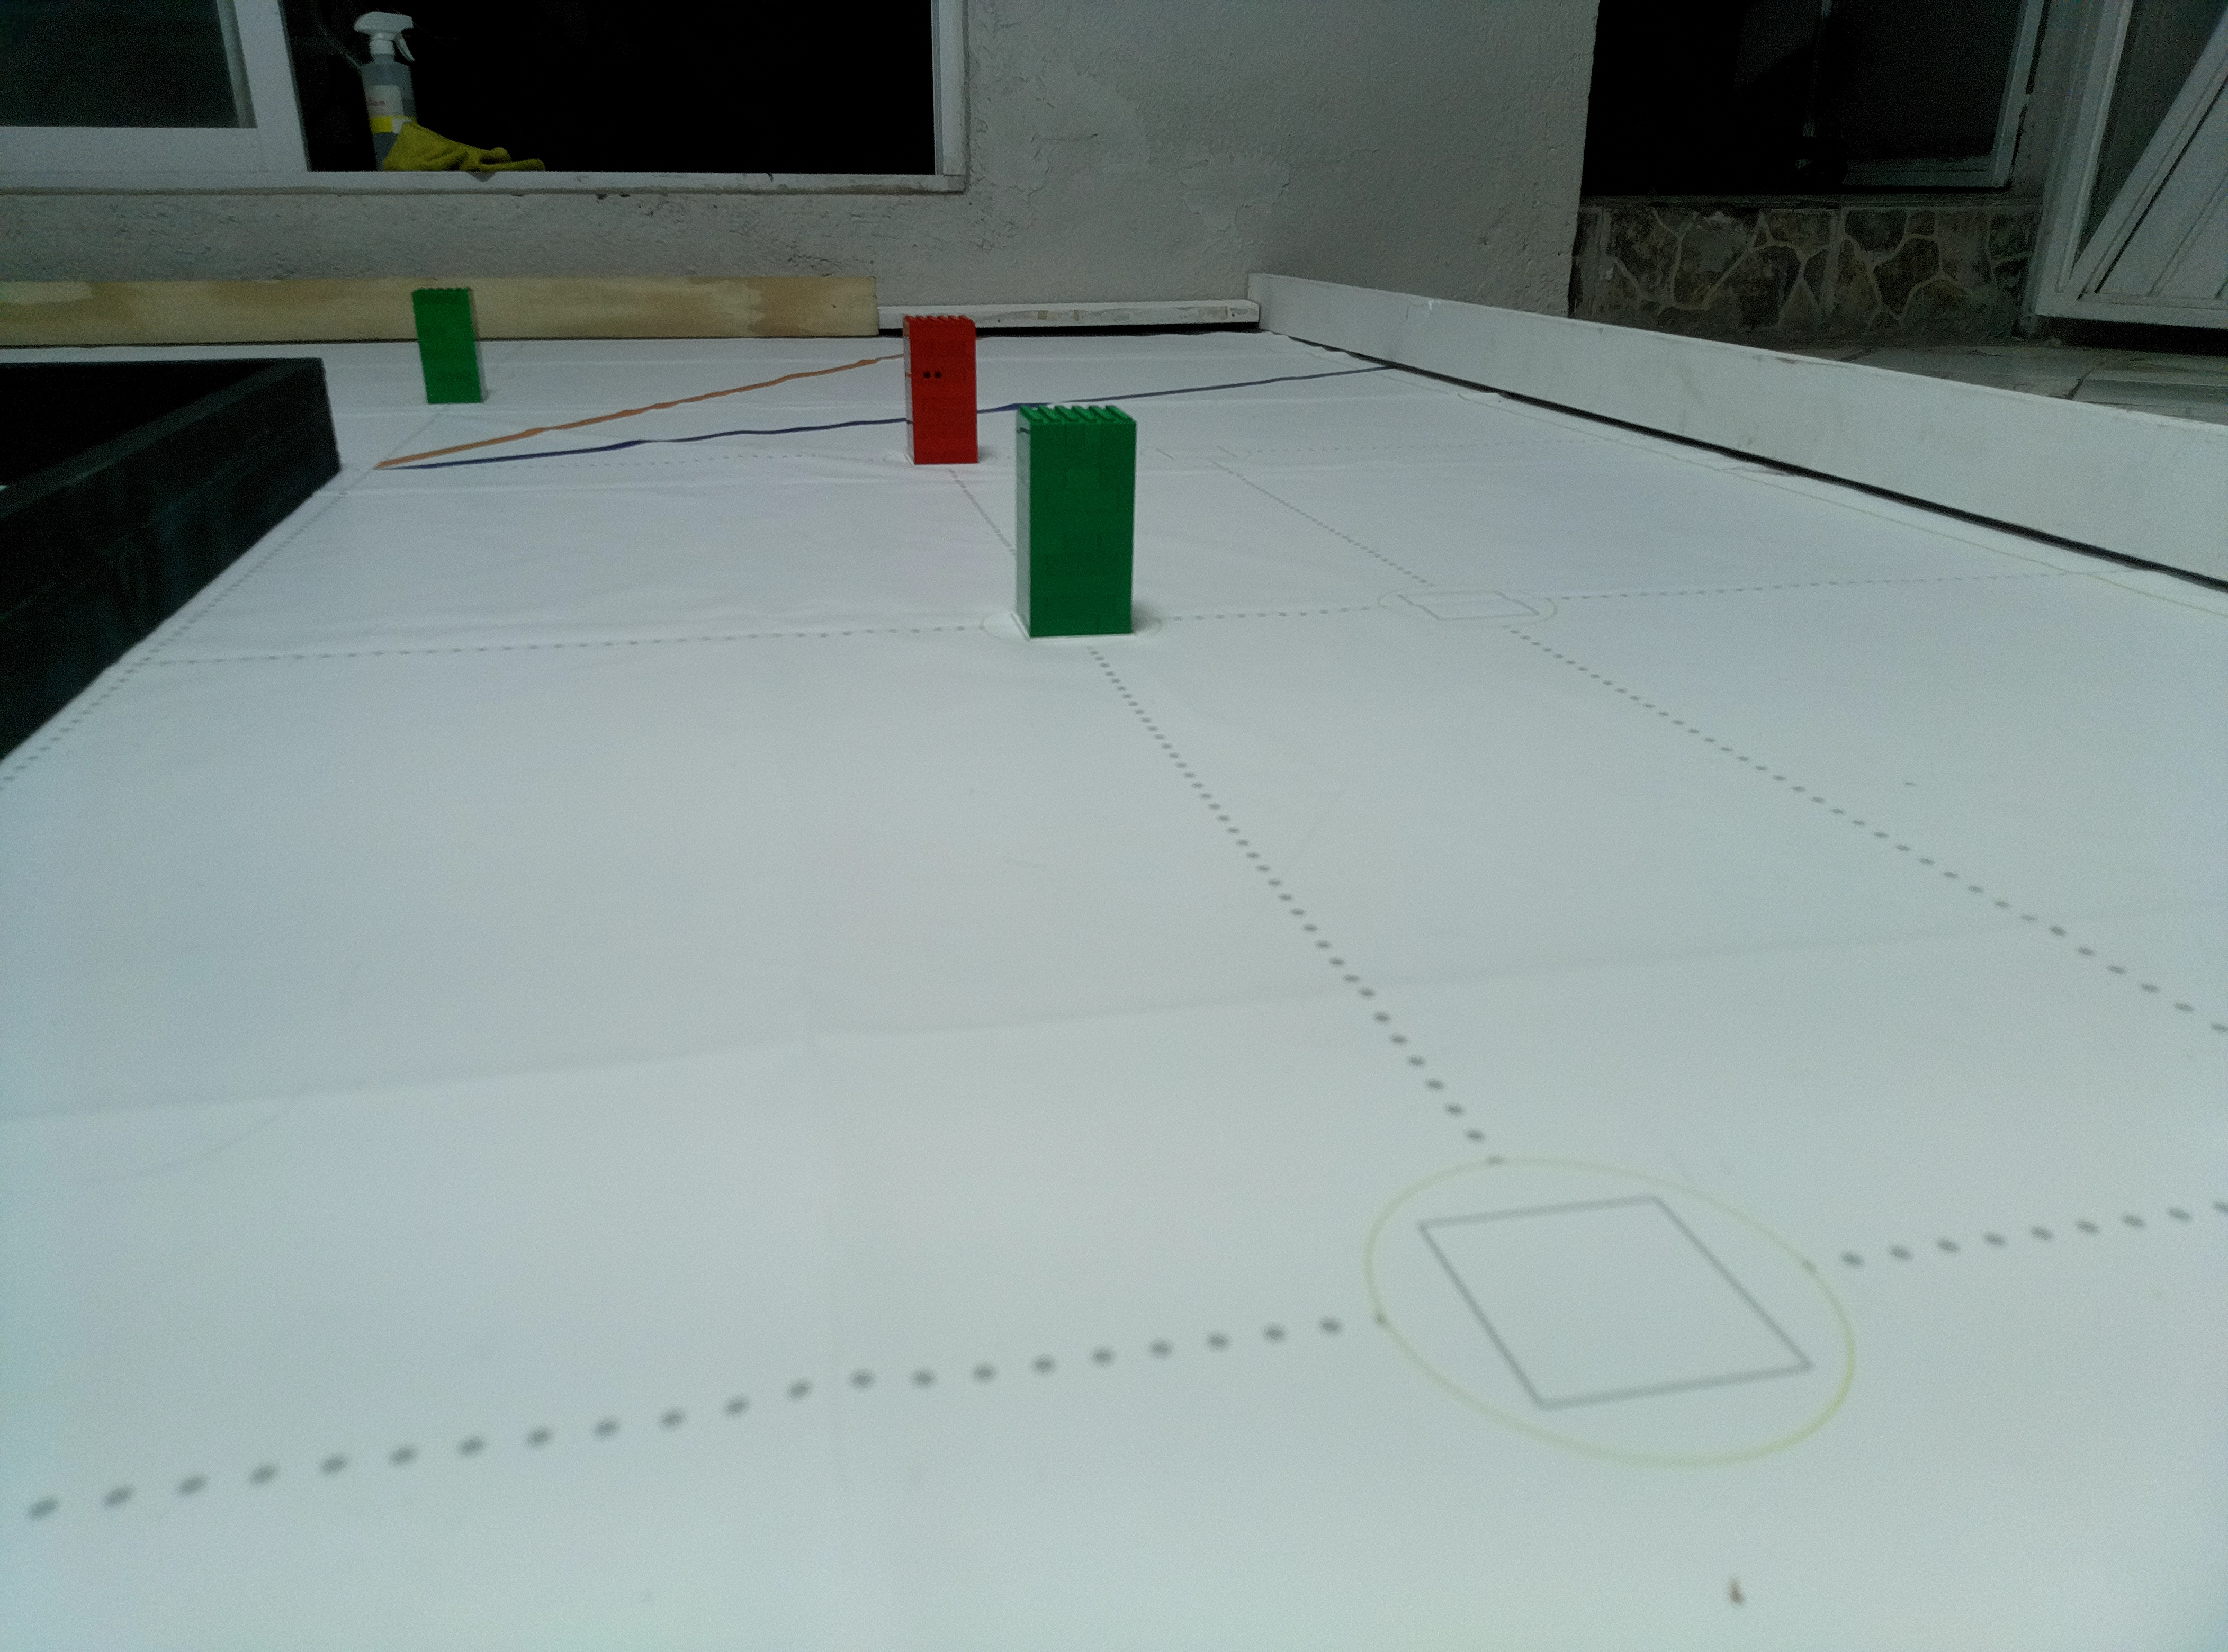greenbox: (1010, 397, 1138, 642), (411, 286, 491, 406)
redbox: (901, 312, 982, 467)
